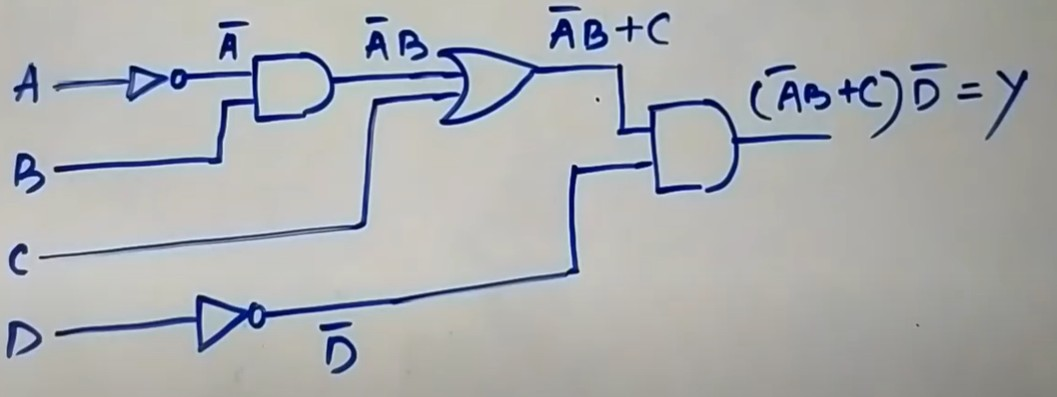and gate: (645, 95, 744, 199), (250, 46, 338, 128)
not gate: (193, 292, 270, 360), (123, 63, 193, 107)
or gate: (433, 45, 545, 129)
